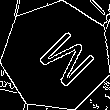M_SW: (22, 22, 91, 91)
